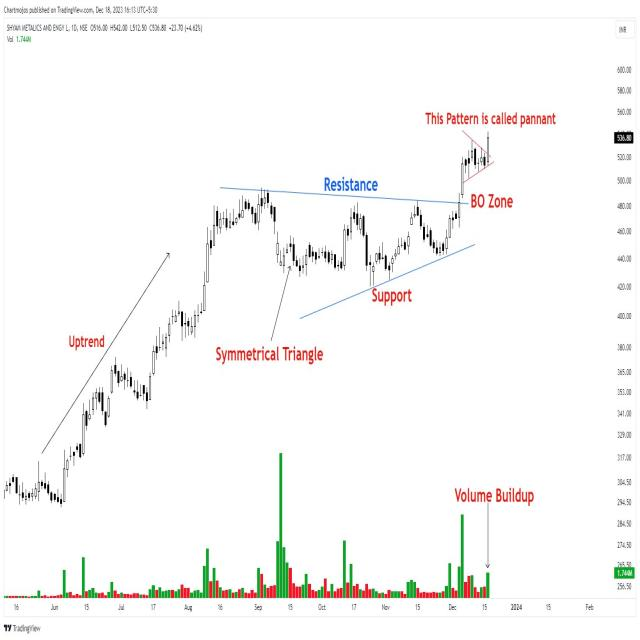Ascending-Triangle: (204, 194, 546, 354)
